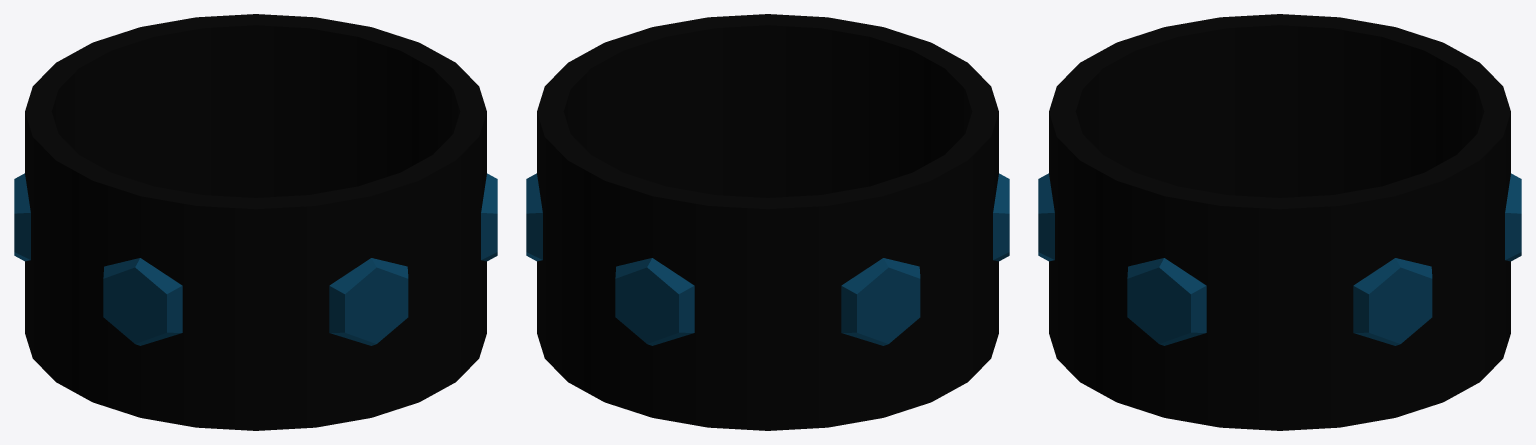
File: treasure_chest_bracelet.fbx
3 renders of one model, left to right at view 1: azimuth 30°, elevation 25°; view 2: azimuth 150°, elevation 25°; view 3: azimuth 270°, elevation 25°, orthographic.
Visible parts, largest first — view 1: treasure_chest_bracelet; view 2: treasure_chest_bracelet; view 3: treasure_chest_bracelet.
Boxes of the visible parts, x1,y1,x2,y2 form: treasure_chest_bracelet: [14, 14, 497, 430]; treasure_chest_bracelet: [526, 14, 1009, 430]; treasure_chest_bracelet: [1038, 14, 1521, 430].
Size of the model in its own units: 19.7 by 10.43 by 20.6.
